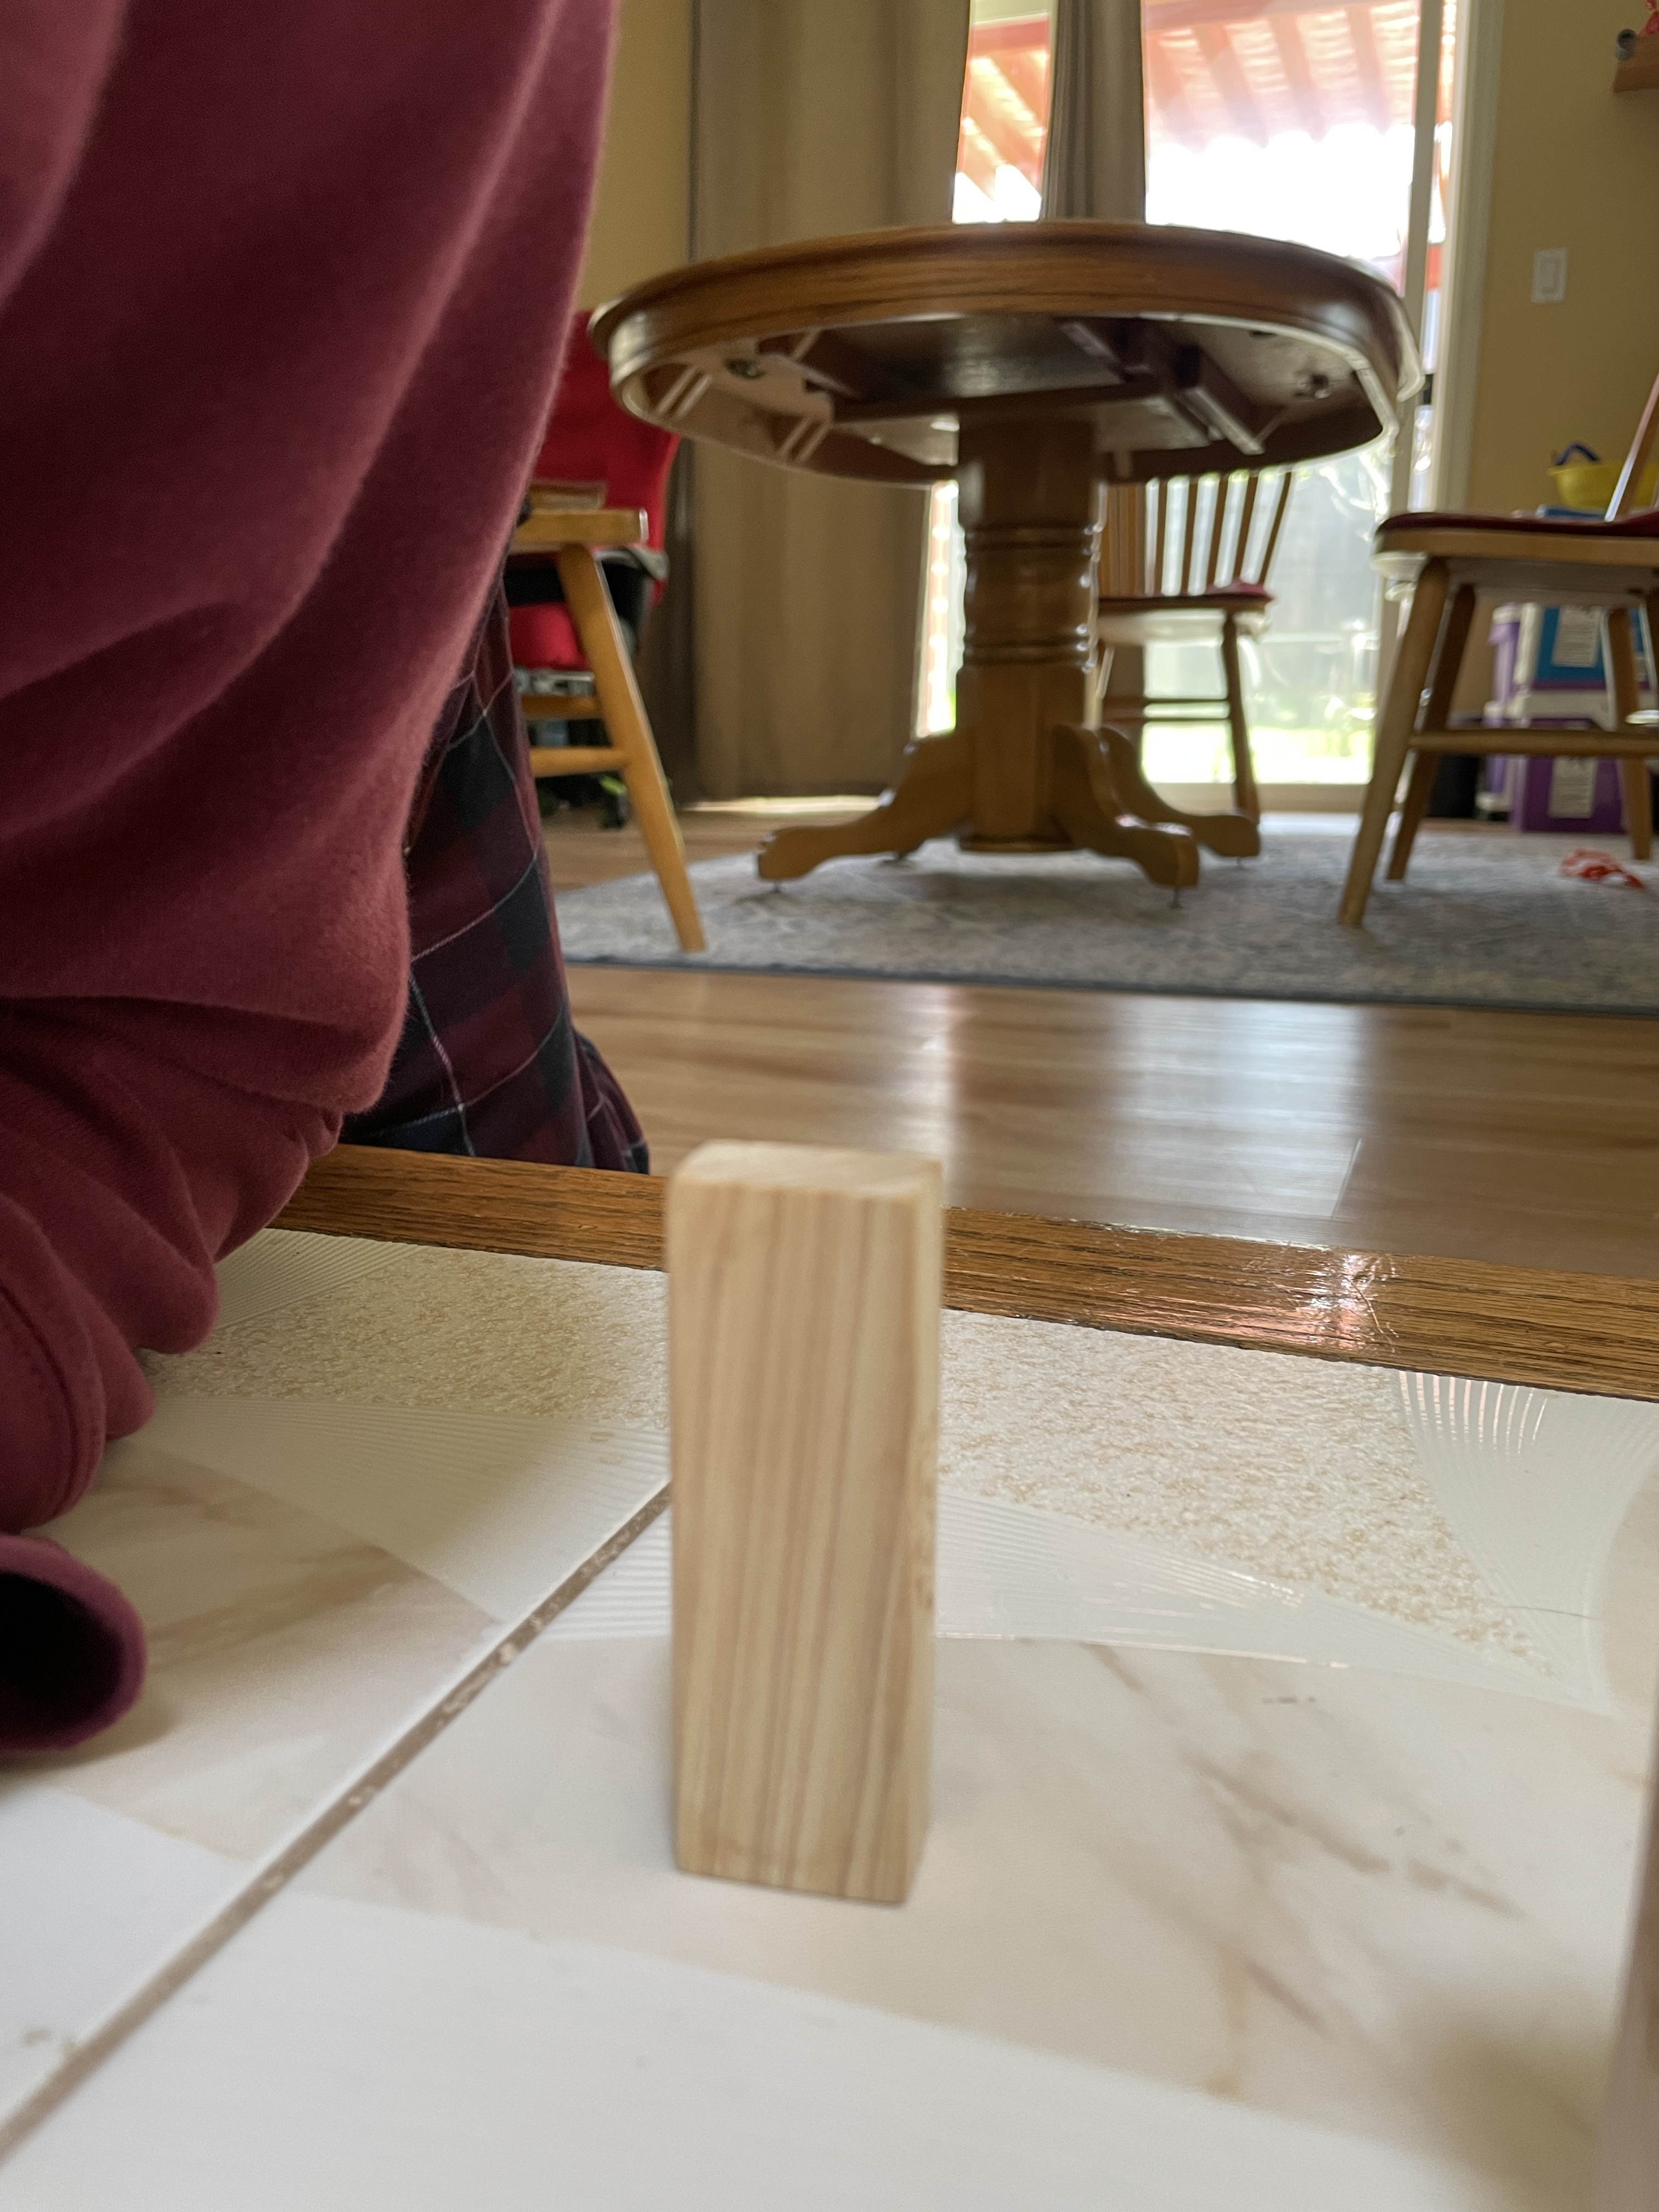jenga: (641, 1139, 971, 1912)
